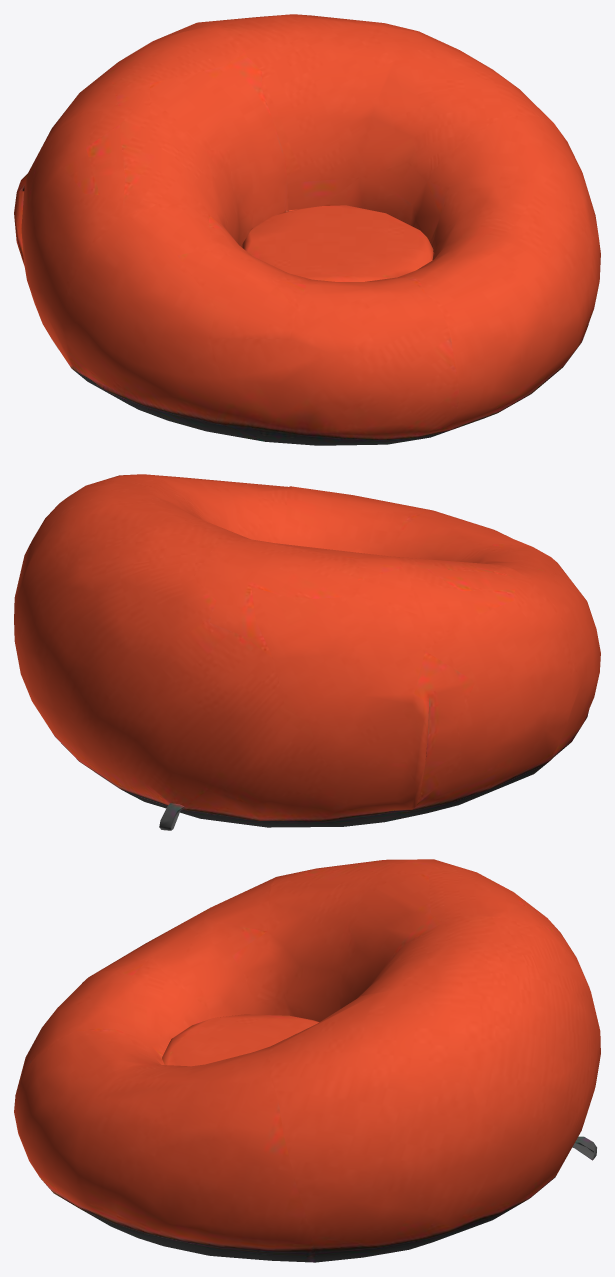
The model's file is 05 - BRÄNNBOLL Inflatable gaming lounge chair - bright orange.glb.
3 views of the same model, one above another, from view 1: azimuth 30°, elevation 25°; view 2: azimuth 150°, elevation 25°; view 3: azimuth 270°, elevation 25° (orthographic).
Parts seen in each view (by area): view 1: ASY_ART_90586285_S01_NV01; view 2: ASY_ART_90586285_S01_NV01; view 3: ASY_ART_90586285_S01_NV01.
Part boxes in pixels (x1,y1,x2,y2): ASY_ART_90586285_S01_NV01: (14,14,600,445); ASY_ART_90586285_S01_NV01: (14,474,600,830); ASY_ART_90586285_S01_NV01: (14,859,600,1262).
Bounding box in the file's own units: 0.8686 × 0.424 × 0.8644.
1 material, 1 textured.
